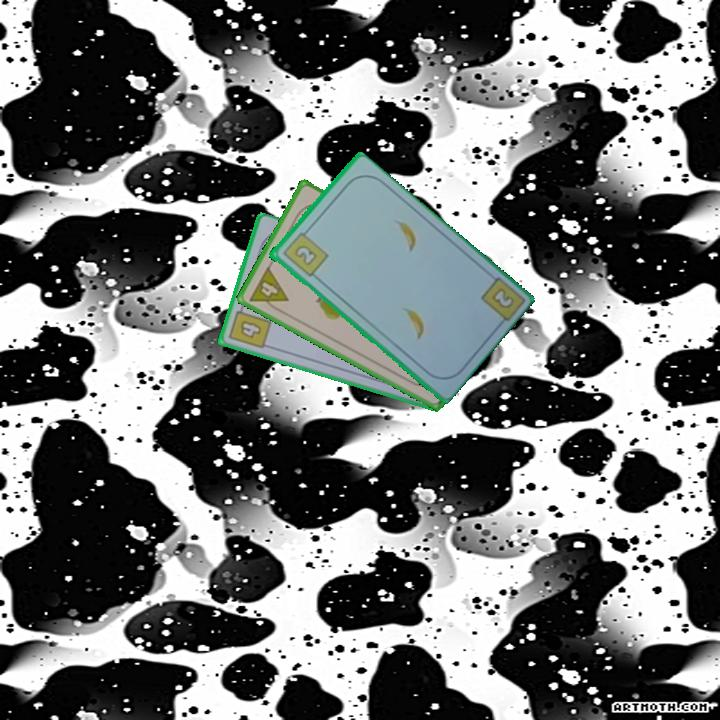2b: (279, 225, 331, 280), (490, 286, 515, 310)
4b: (225, 301, 274, 352)
4p: (245, 263, 291, 316)
